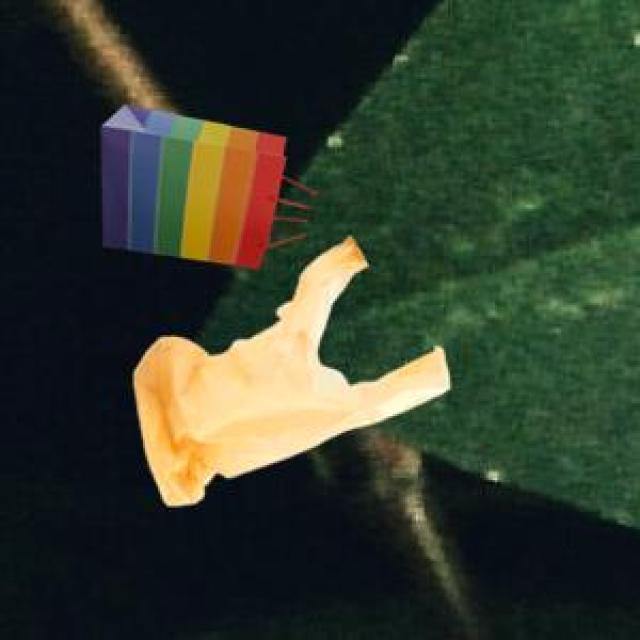paper: (98, 102, 282, 265)
